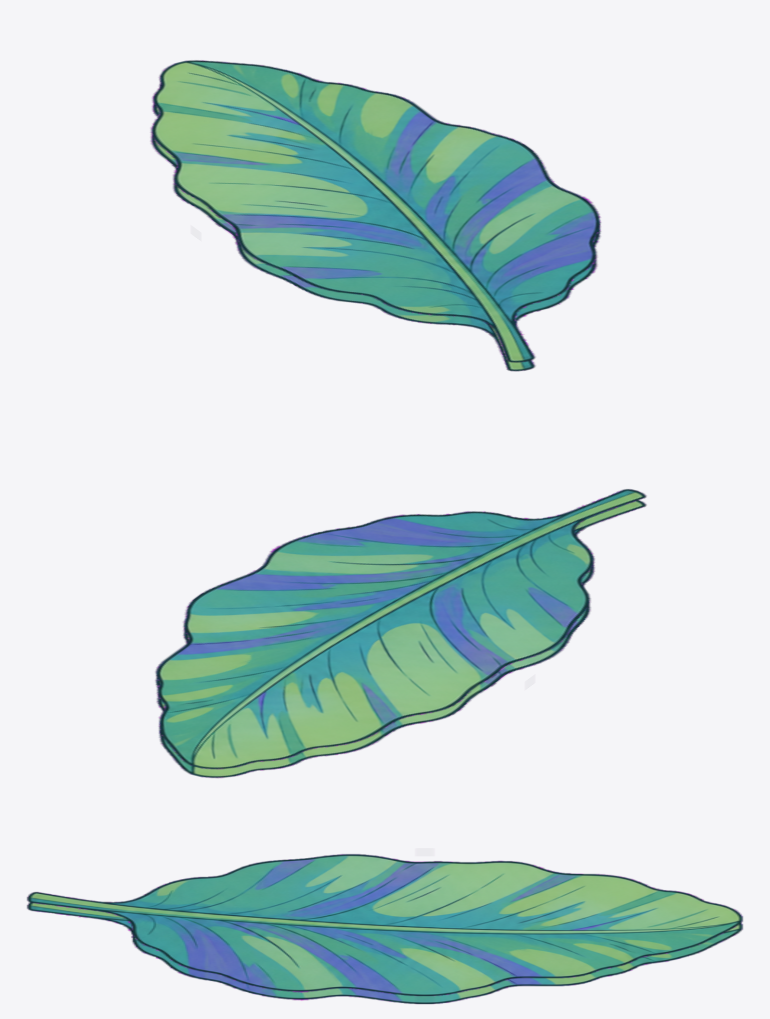
The model's file is leaf_broad.glb.
The picture shows the model from 3 angles, top to bottom: view 1: azimuth 30°, elevation 25°; view 2: azimuth 150°, elevation 25°; view 3: azimuth 270°, elevation 25°; orthographic projection. The views are drawn at different scales.
Visible parts, largest first — view 1: leaf_broad; view 2: leaf_broad; view 3: leaf_broad.
Part boxes in pixels (x1,y1,x2,y2): leaf_broad: (150, 60, 600, 371); leaf_broad: (155, 489, 646, 778); leaf_broad: (27, 854, 742, 1003).
Size of the model in its own units: 2 by 0.05 by 4.23.
Materials: 1 (1 with a texture image).
